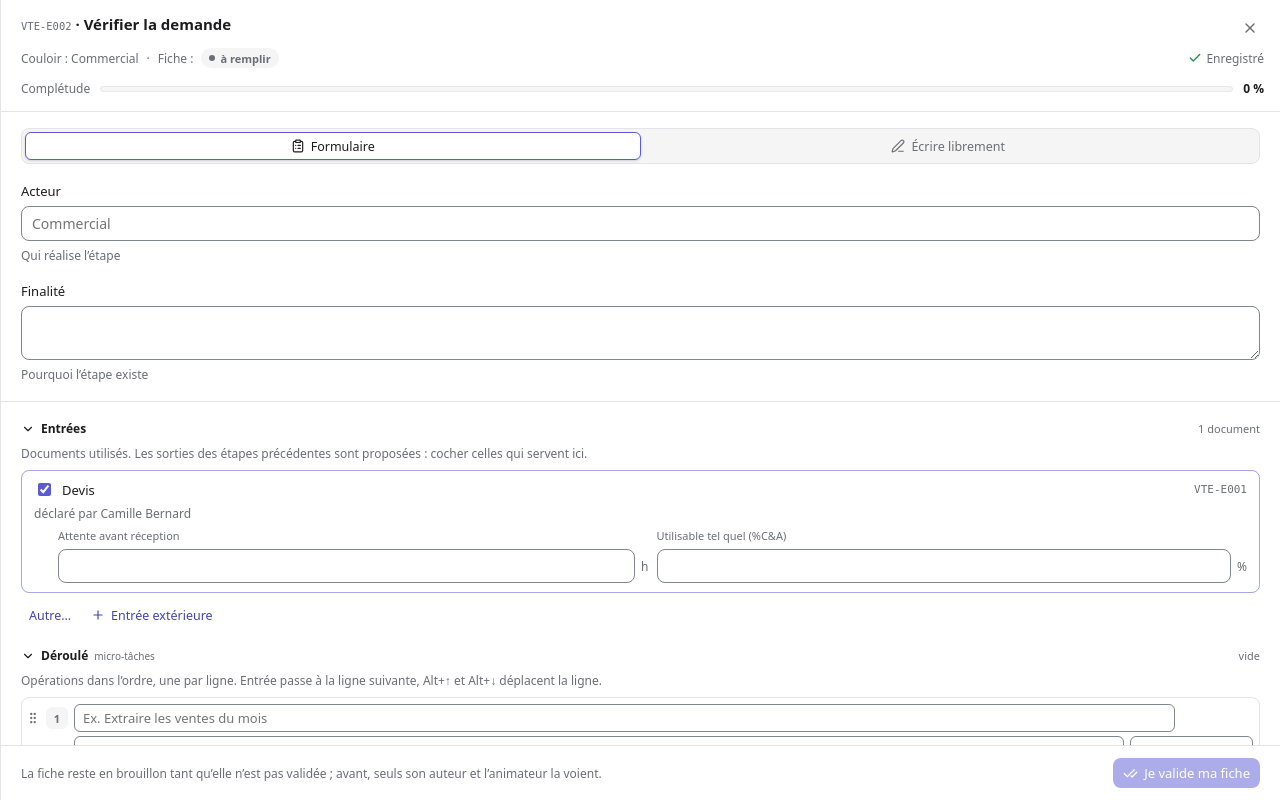
Test case: the use of a ticked input (B-4-71 to B-4-75) › the typing starts again from the use the host gives back
Step 1. Type "5.5" into the number field named "Attente avant réception de « Devis », en heures" → (347, 566), box [58,549,635,583]
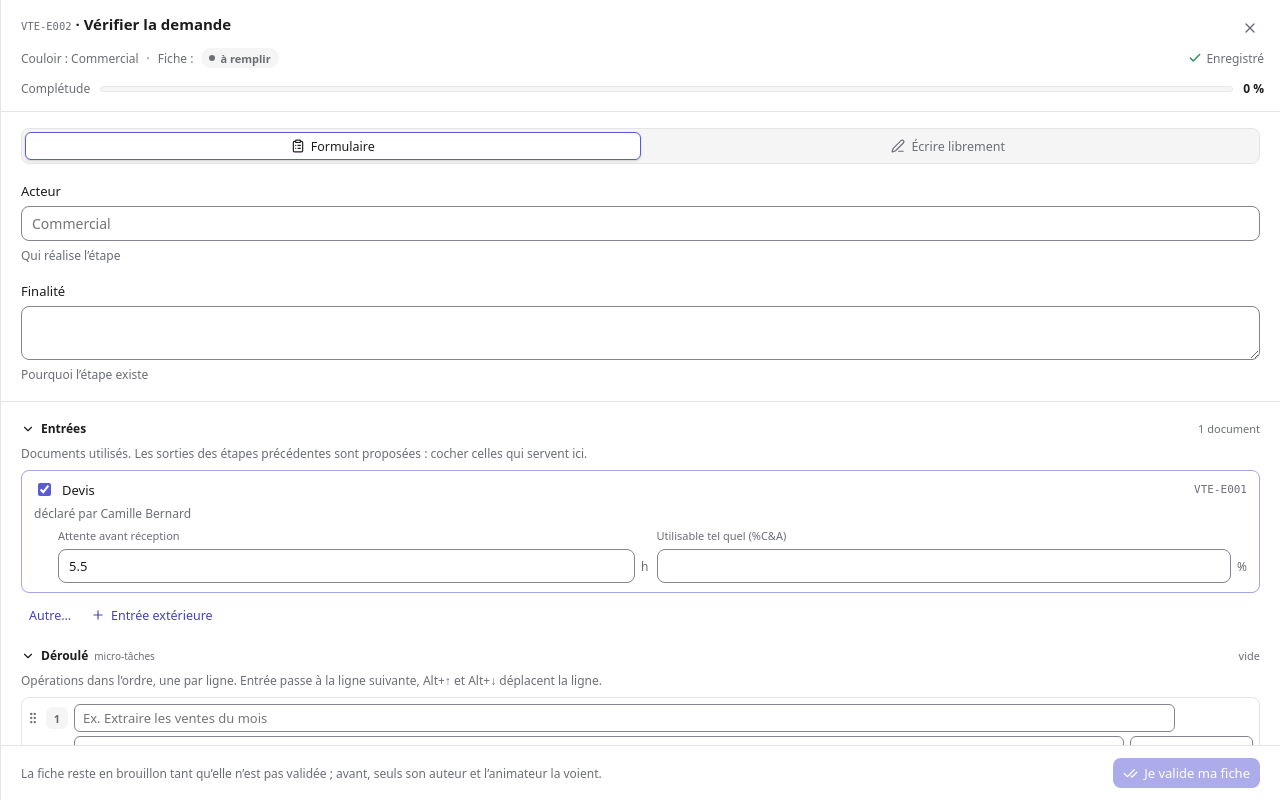
Step 2. Leave the number field named "Attente avant réception de « Devis », en heures", box [58,549,635,583]
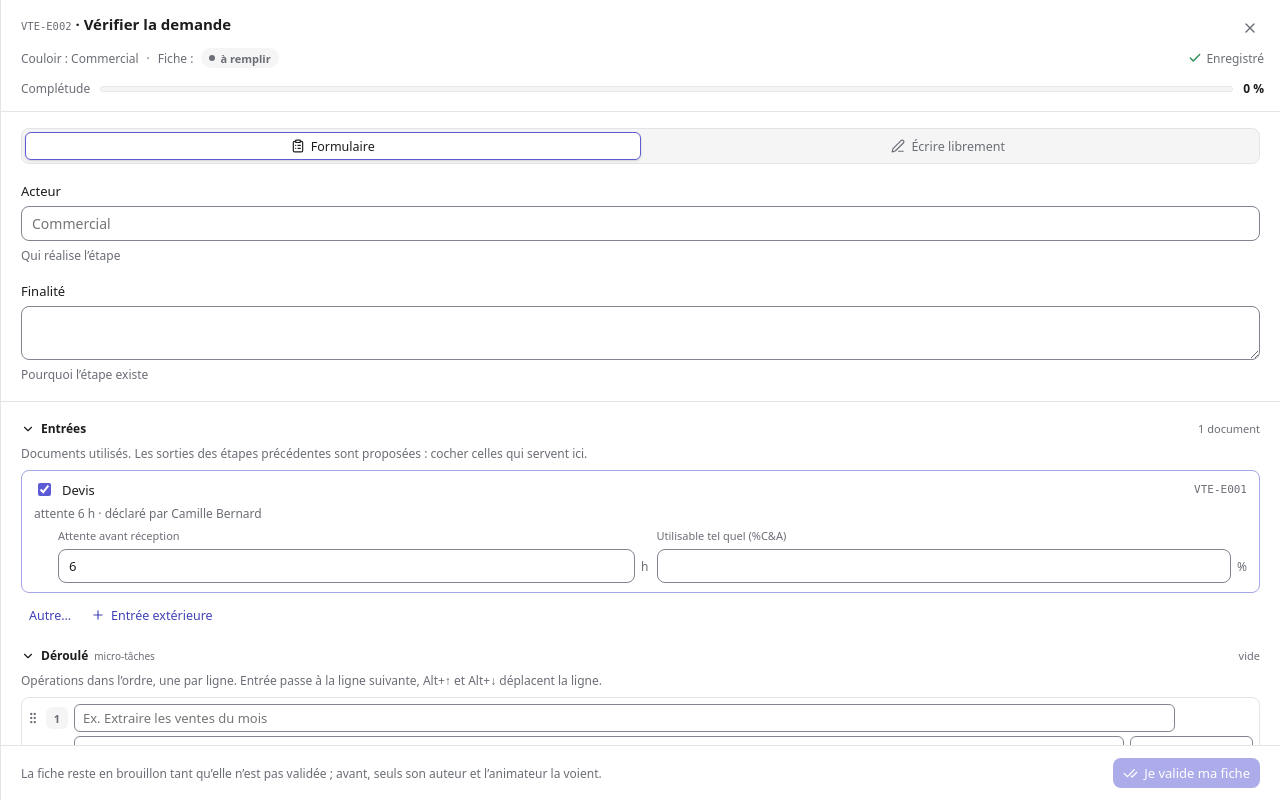
Now the number field named "Attente avant réception de « Devis », en heures" holds "6", box [58,549,635,583]
